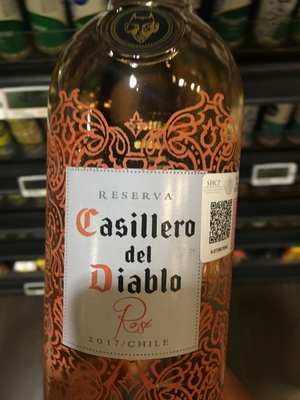casillero del diablo rose: (43, 14, 246, 386)
